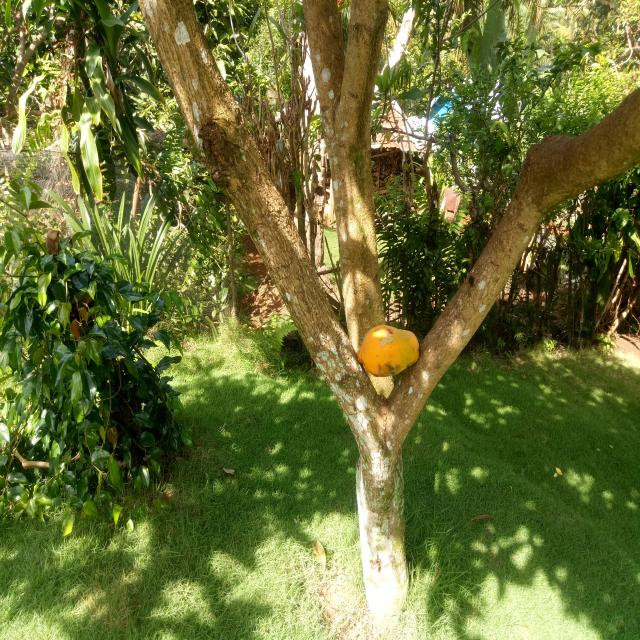Pepaya rippen: (354, 320, 423, 380)
